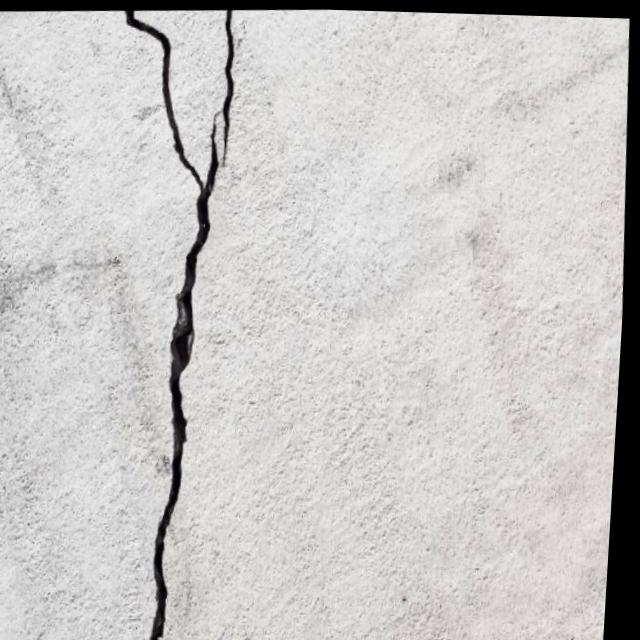Crack: (97, 6, 259, 640)
